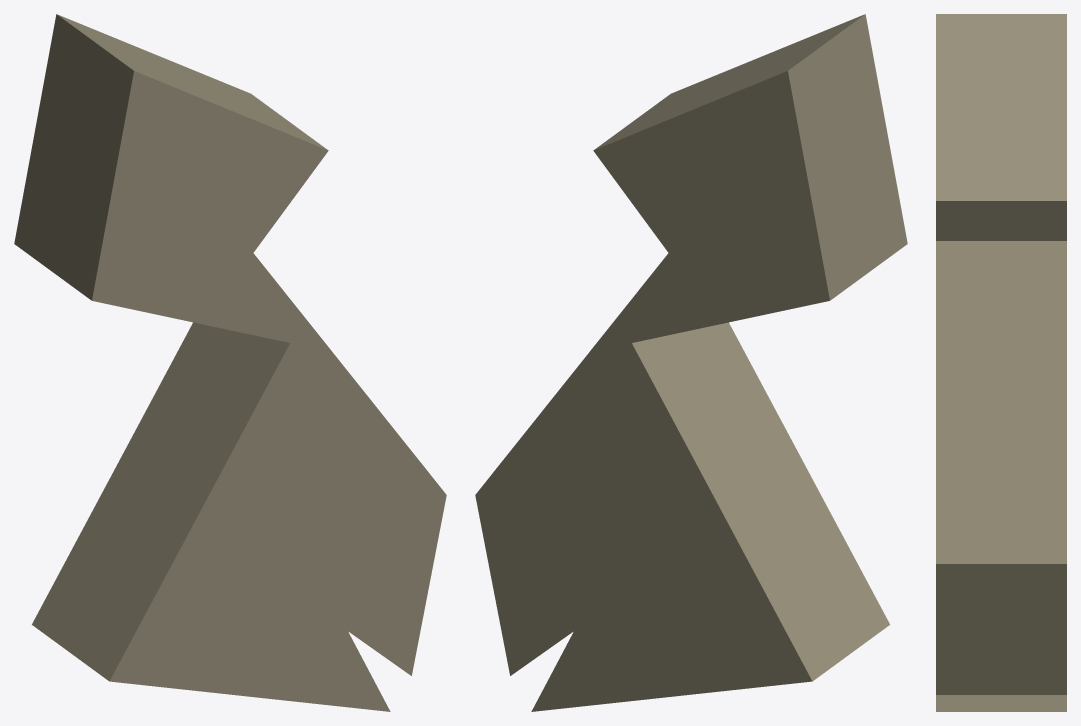
The model's file is cliff_face_0.glb.
The picture shows the model from 3 angles, left to right: view 1: azimuth 30°, elevation 25°; view 2: azimuth 150°, elevation 25°; view 3: azimuth 270°, elevation 25°; orthographic projection. The views are drawn at different scales.
Parts seen in each view (by area): view 1: cliff_face_0; view 2: cliff_face_0; view 3: cliff_face_0.
Part boxes in pixels (<box>): cliff_face_0: <box>14,14,446,711</box>; cliff_face_0: <box>475,14,907,711</box>; cliff_face_0: <box>936,14,1066,711</box>.
Size of the model in its own units: 7.91 by 14.99 by 3.
